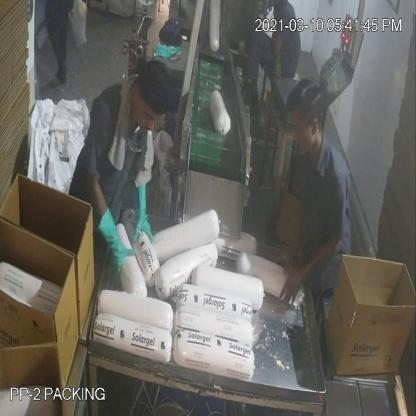glove: (93, 203, 135, 281), (132, 176, 158, 248)
no_glove: (278, 228, 342, 310)
